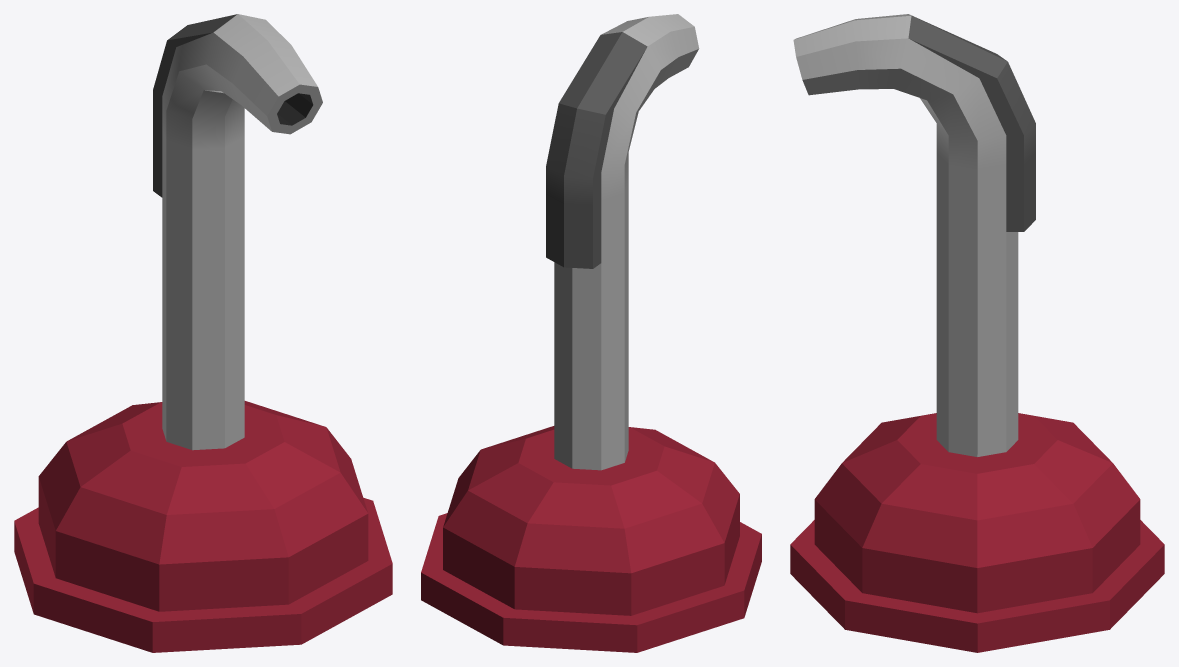
Rendered from bidettower.fbx.
3 views of the same model, side by side, from view 1: azimuth 30°, elevation 25°; view 2: azimuth 150°, elevation 25°; view 3: azimuth 270°, elevation 25° (orthographic). The views are drawn at different scales.
Parts seen in each view (by area): view 1: pCylinder1; view 2: pCylinder1; view 3: pCylinder1.
Part boxes in pixels (bbox=[...]): pCylinder1: bbox=[14, 14, 392, 652]; pCylinder1: bbox=[421, 14, 761, 652]; pCylinder1: bbox=[790, 14, 1164, 652].
Bounding box in the file's own units: 10 × 16.45 × 10.
1 material, 1 textured.
